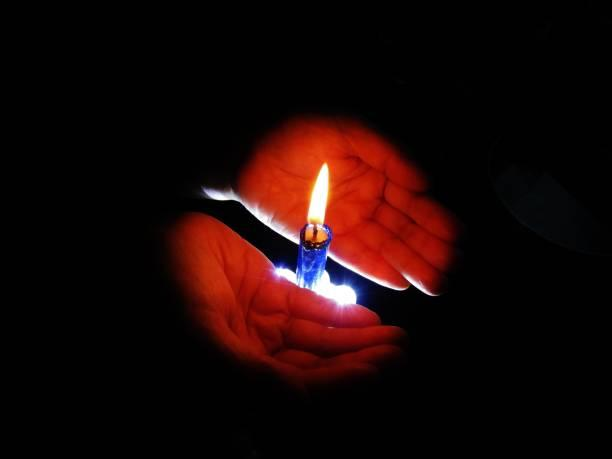Fire: (304, 158, 339, 228)
